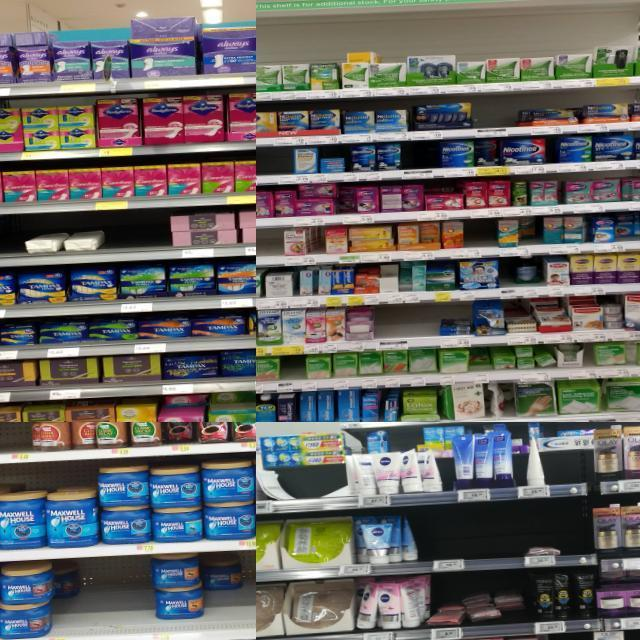Imprecise: (196, 549, 244, 633), (430, 592, 528, 626), (524, 432, 548, 487), (518, 216, 544, 248), (515, 254, 541, 283), (615, 212, 640, 238), (467, 347, 491, 374), (398, 262, 412, 290)
